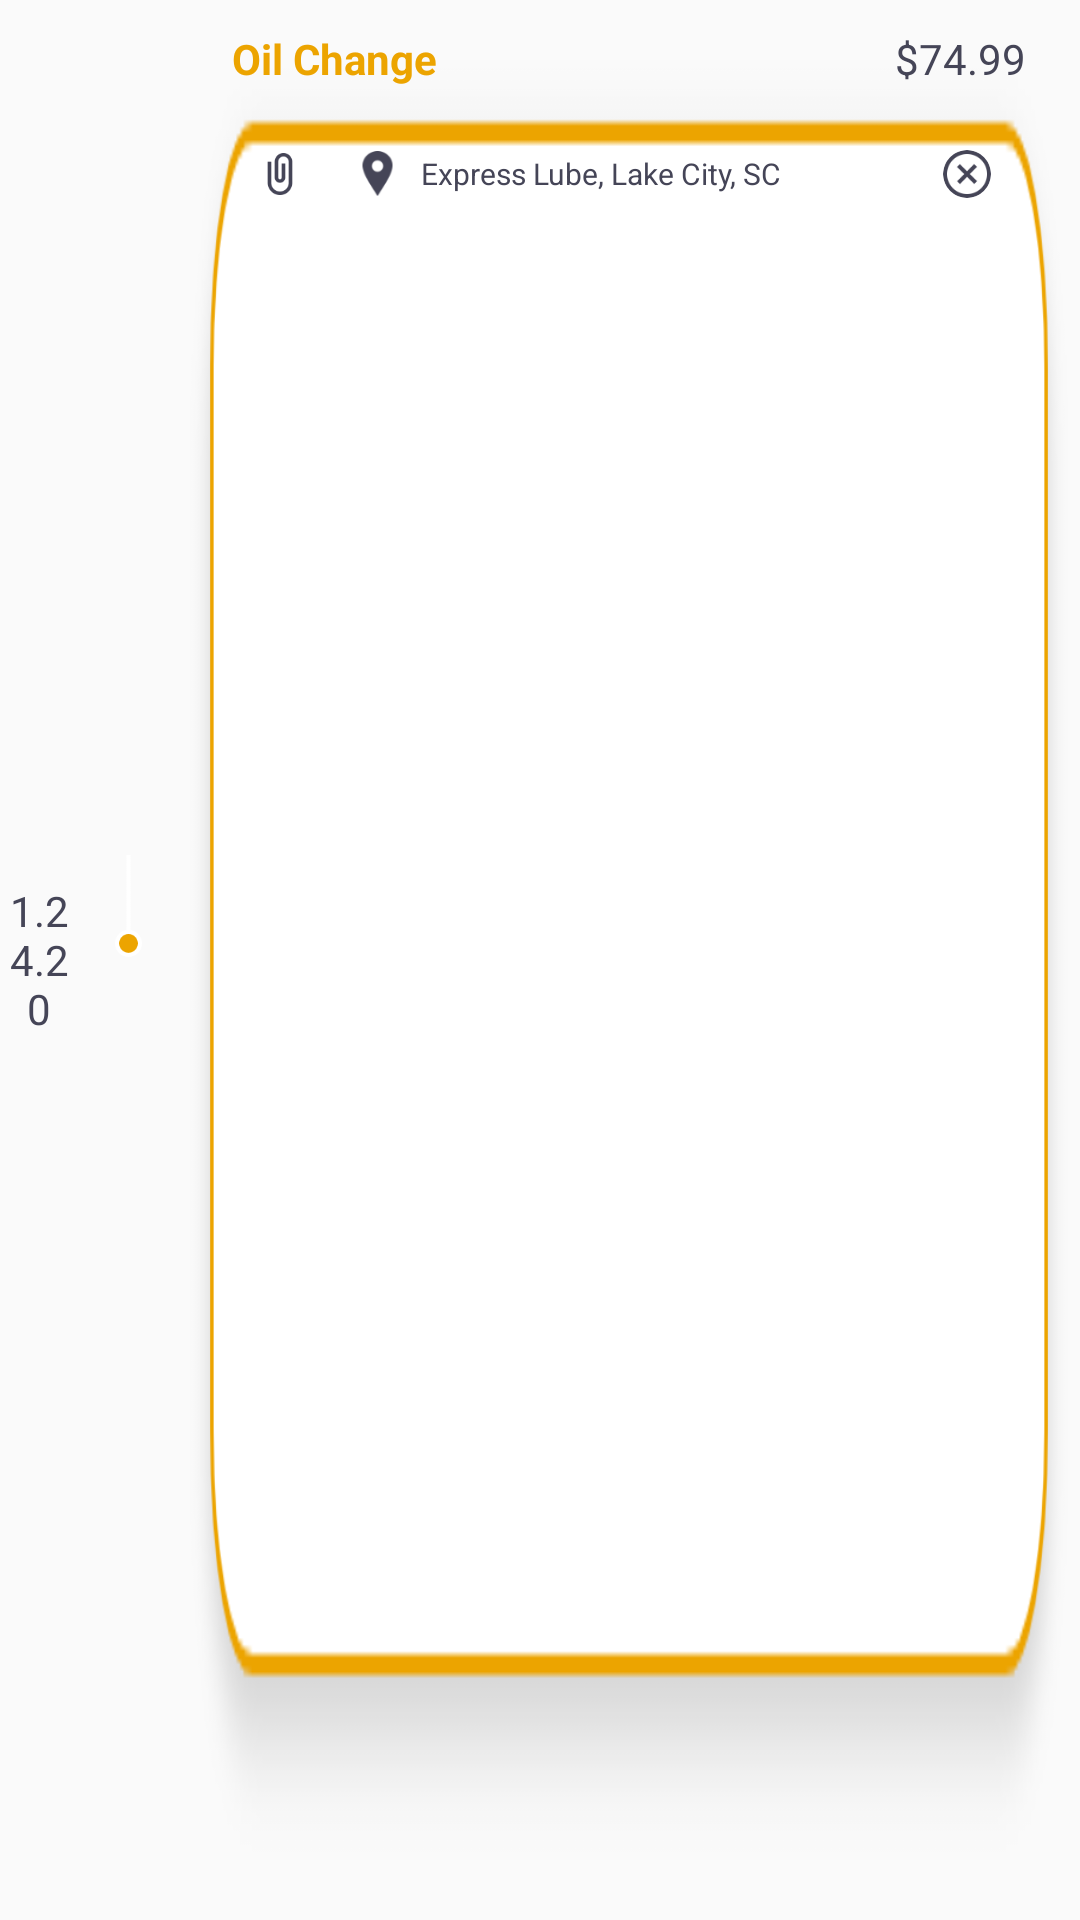

Where icons sit on this 1080w x 1920h app screen, as [x1=x1, y1=y1, x2=x2, y2=y2]:
serviceattachment: [x1=267, y1=153, x2=293, y2=195]
servicedelete: [x1=943, y1=150, x2=991, y2=198]
servicepin: [x1=362, y1=151, x2=393, y2=196]
